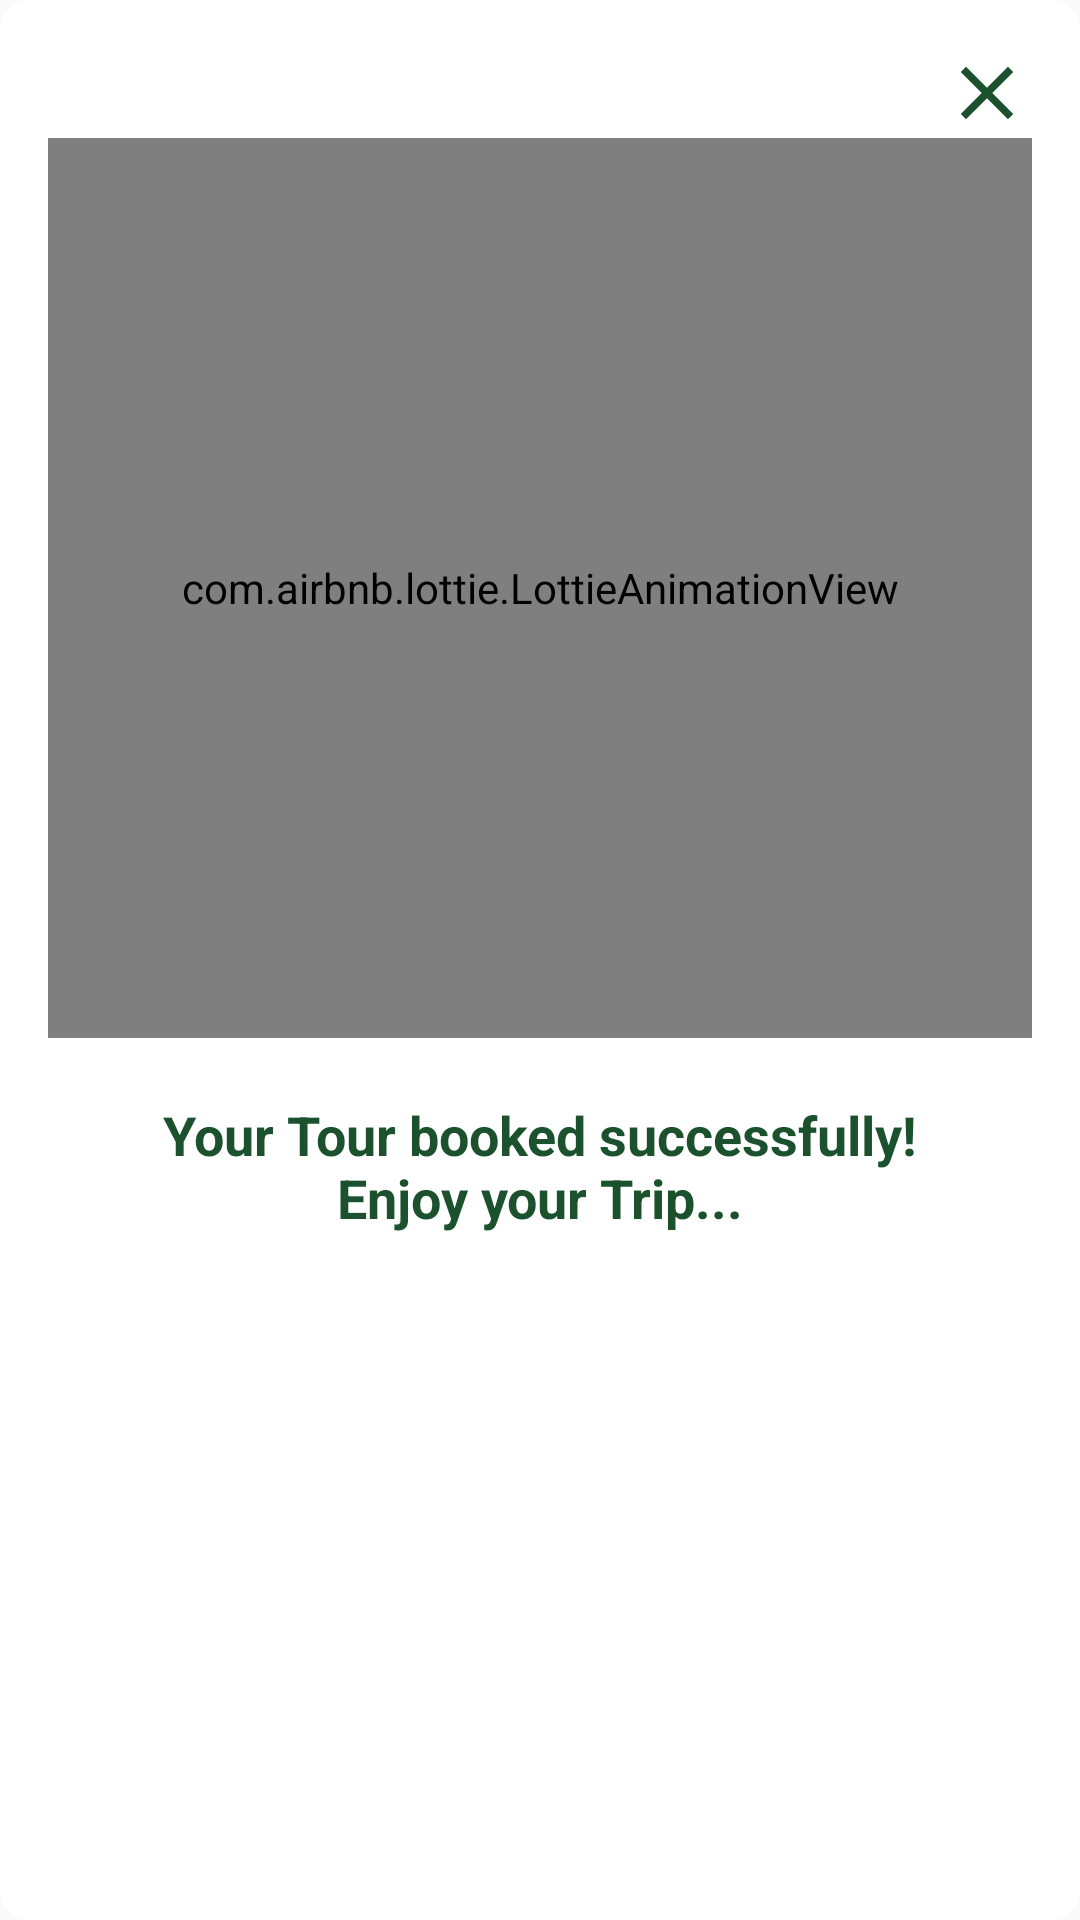

Screen size 1080w x 1920h. Icon name, then its center in pixels as (x=x, y=y):
exit: (x=987, y=93)
